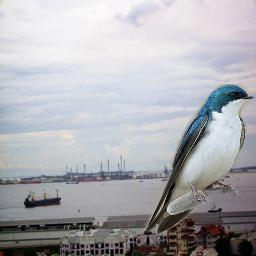Swallow: (142, 84, 256, 237)
